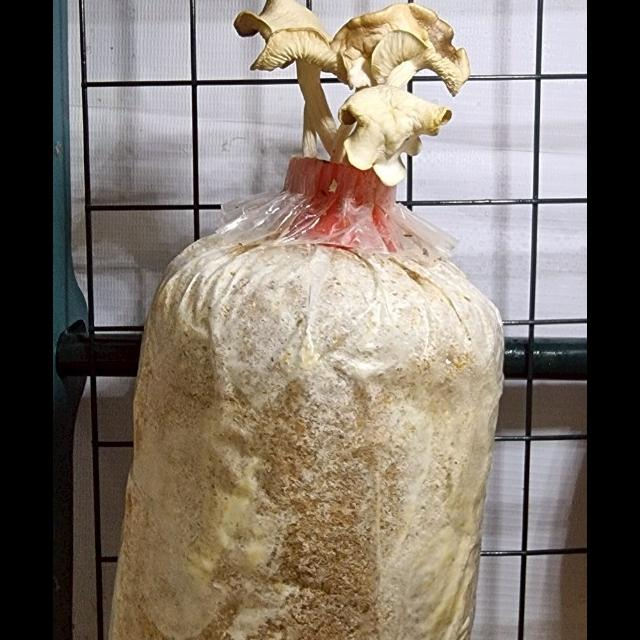abnormal: (335, 0, 471, 194), (223, 0, 343, 180), (281, 72, 451, 180)
